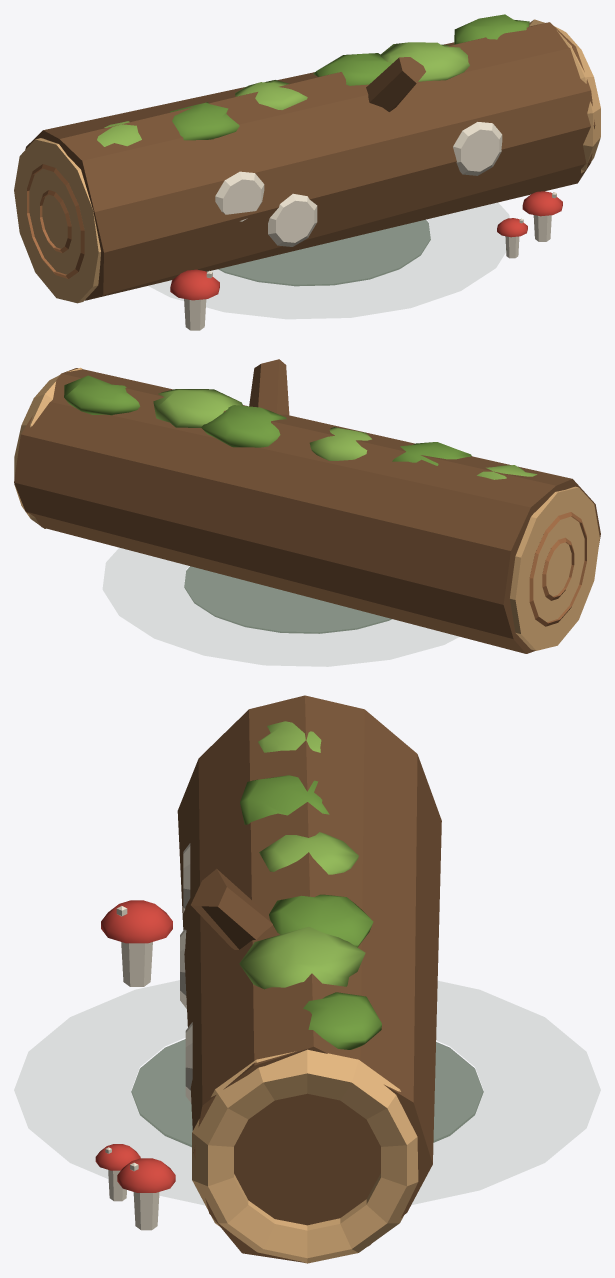
File: log.glb
3 renders of one model, top to bottom at view 1: azimuth 30°, elevation 25°; view 2: azimuth 150°, elevation 25°; view 3: azimuth 270°, elevation 25°, orthographic. The views are drawn at different scales.
Parts seen in each view (by area): view 1: log; view 2: log; view 3: log.
Part boxes in pixels (<box>): log: <box>14,14,600,330</box>; log: <box>14,359,600,653</box>; log: <box>95,695,483,1263</box>.
Bounding box in the file's own units: 1.78 × 0.6402 × 1.24.
